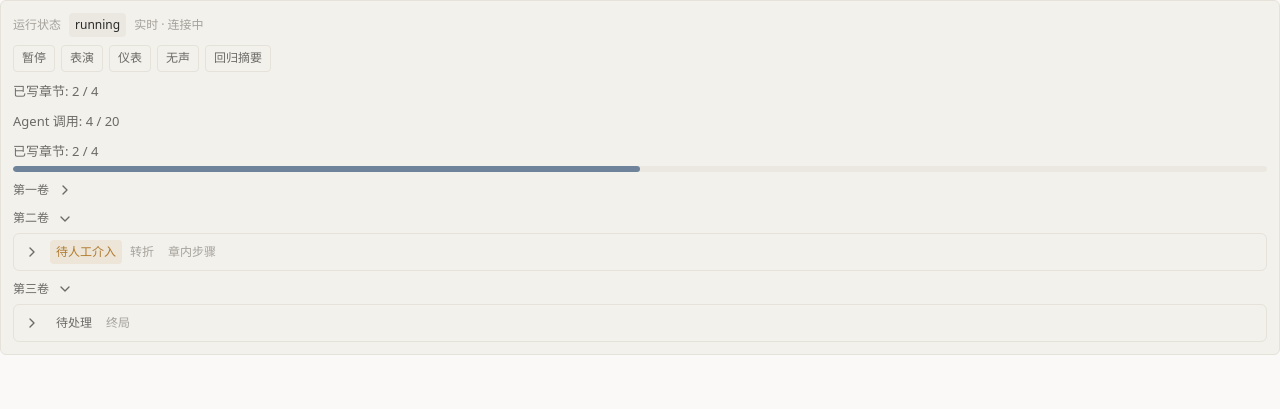
Test: #1333 章内步骤展开（N15） › agentic 轨（substeps 非空）→ 渲染展开入口，展开显示步骤 chip
Click the button with test id "trace-substeps-toggle-o-v2c1".
click(192, 252)  # box [162,240,222,264]
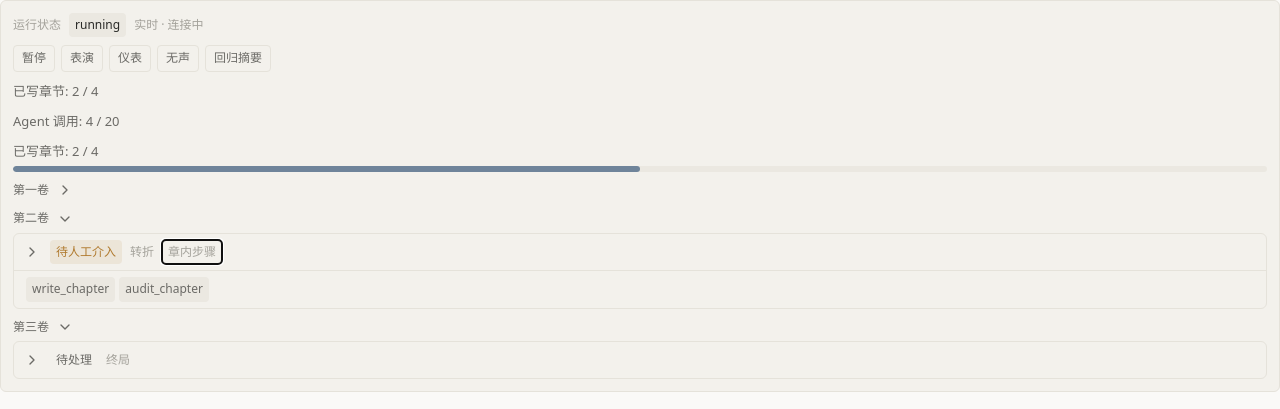
Check: the element with test id "trace-substeps-o-v2c1" shows "write_chapter", box [32,280,109,297]
Check: the text "audit_chapter" is shown, box [119,277,209,302]
